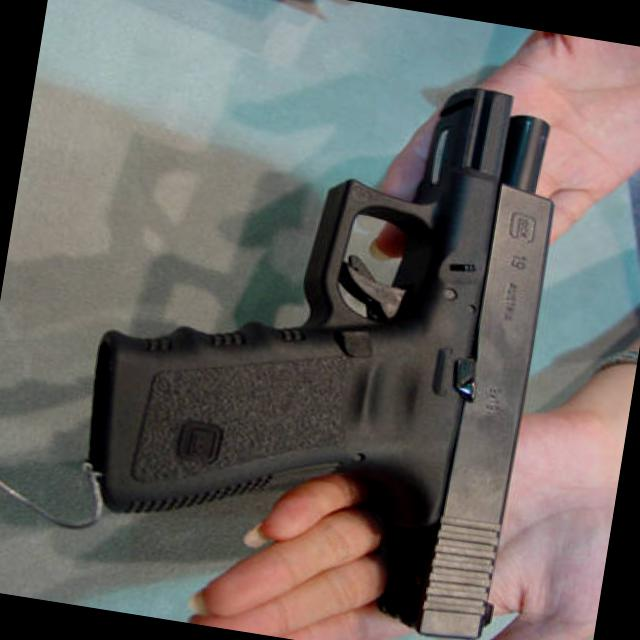handgun: (58, 31, 583, 639)
